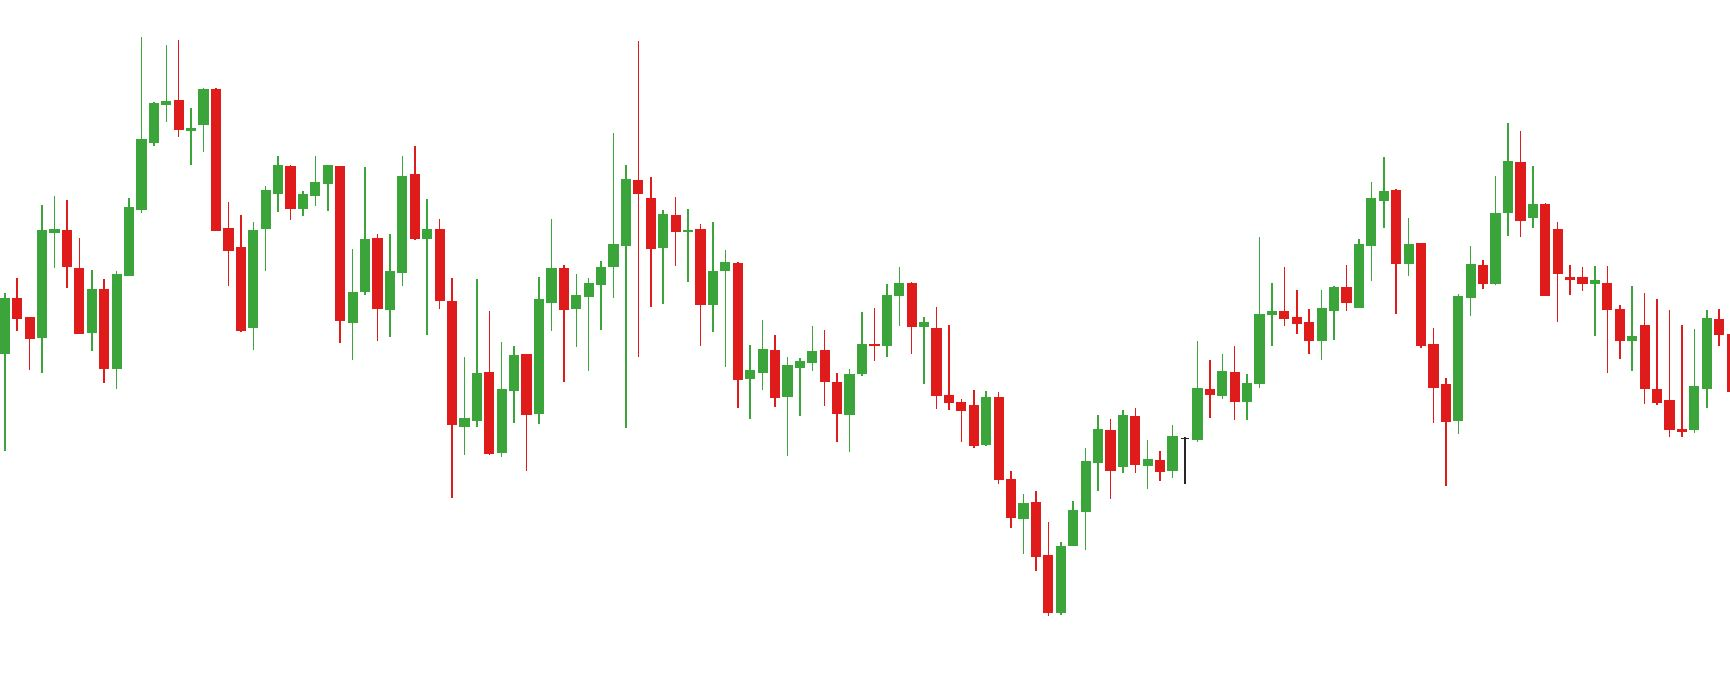buy: (1226, 328, 1465, 487)
sell: (310, 144, 419, 287)
